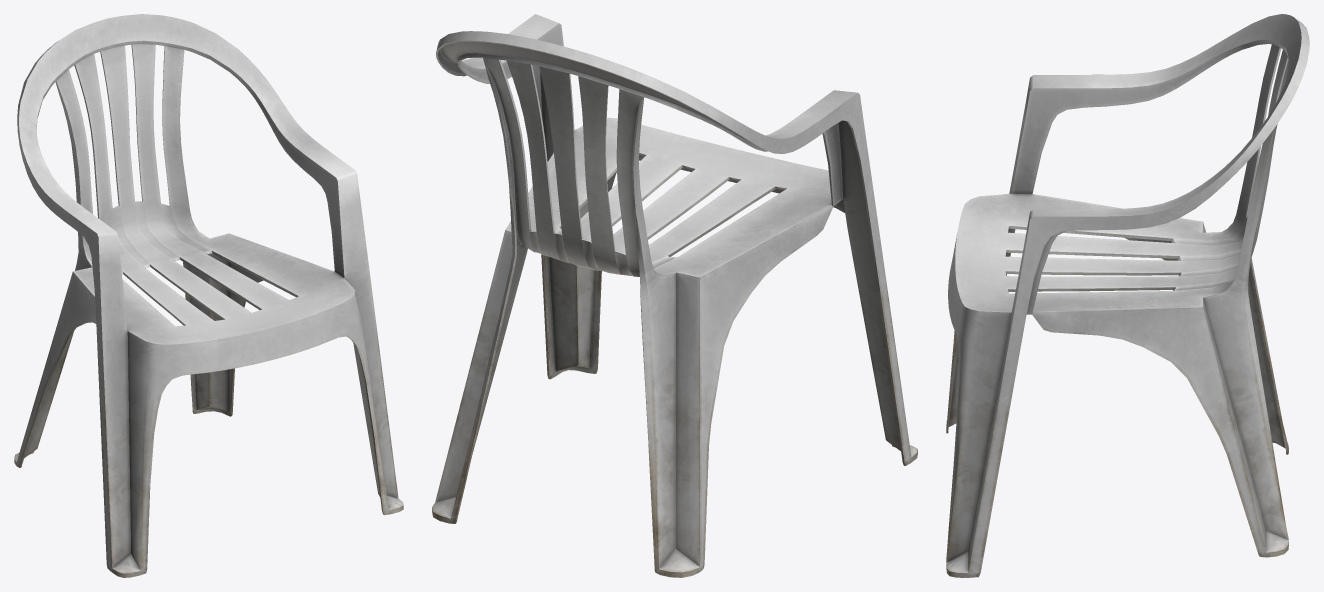
Rendered from waiting_chair.glb.
The picture shows the model from 3 angles, left to right: view 1: azimuth 30°, elevation 25°; view 2: azimuth 150°, elevation 25°; view 3: azimuth 270°, elevation 25°; orthographic projection. The views are drawn at different scales.
Visible parts, largest first — view 1: hospital/waiting_chair; view 2: hospital/waiting_chair; view 3: hospital/waiting_chair.
Boxes of the visible parts, box(x1,y1,x2,y2) form: hospital/waiting_chair: box(14, 14, 403, 577); hospital/waiting_chair: box(432, 14, 917, 577); hospital/waiting_chair: box(946, 14, 1309, 577).
Bounding box in the file's own units: 0.6419 × 0.8798 × 0.6277.
1 material, 1 textured.
